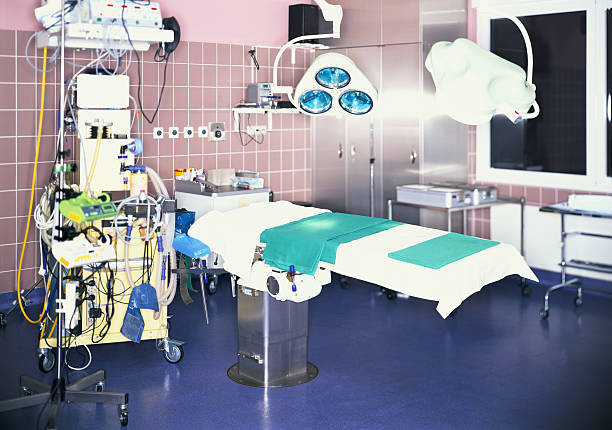breathing_tube: (125, 168, 178, 304)
door_handle: (366, 159, 377, 217)
electrosurgical_unit: (58, 197, 120, 223)
iv_pole: (23, 1, 107, 378)
operating_bed: (174, 197, 537, 388)
surgical_light: (422, 36, 538, 127), (291, 52, 380, 122)
utility_cart: (382, 181, 529, 257), (536, 198, 612, 319)
ventilator: (64, 68, 163, 205)
